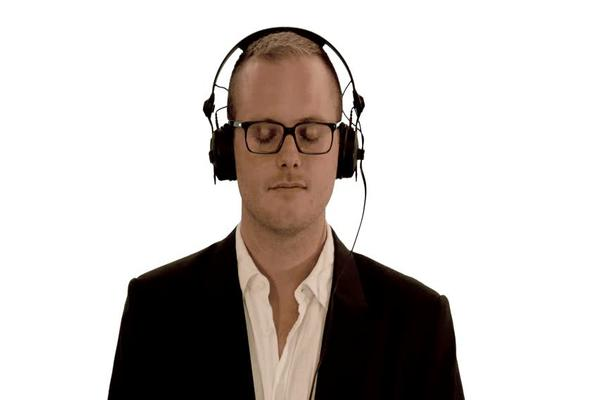headphone: (170, 27, 401, 189)
